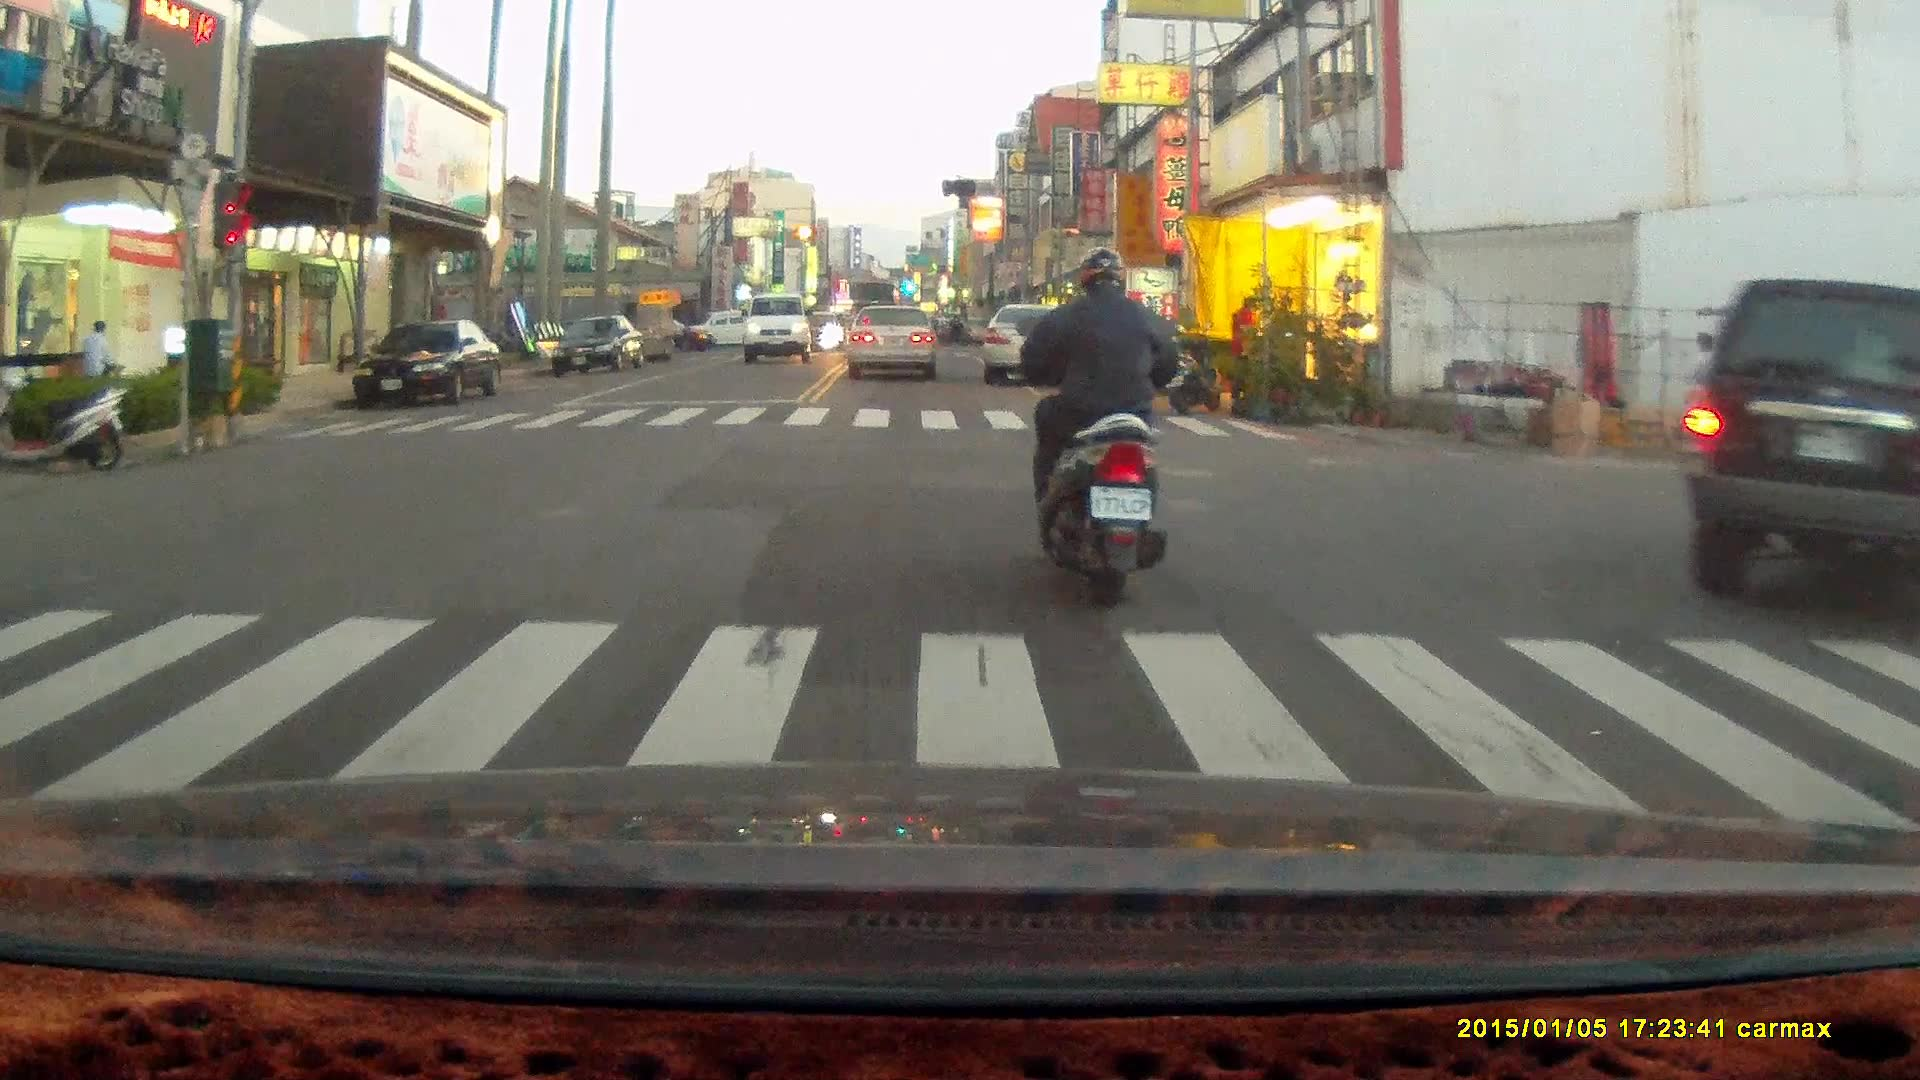pedestrian: (1226, 294, 1262, 408), (78, 318, 113, 391)
rider: (1014, 243, 1180, 606)
vehicle: (1672, 281, 1920, 616), (349, 317, 501, 414), (983, 301, 1092, 388), (848, 304, 937, 382), (553, 315, 646, 379), (745, 296, 814, 365)
